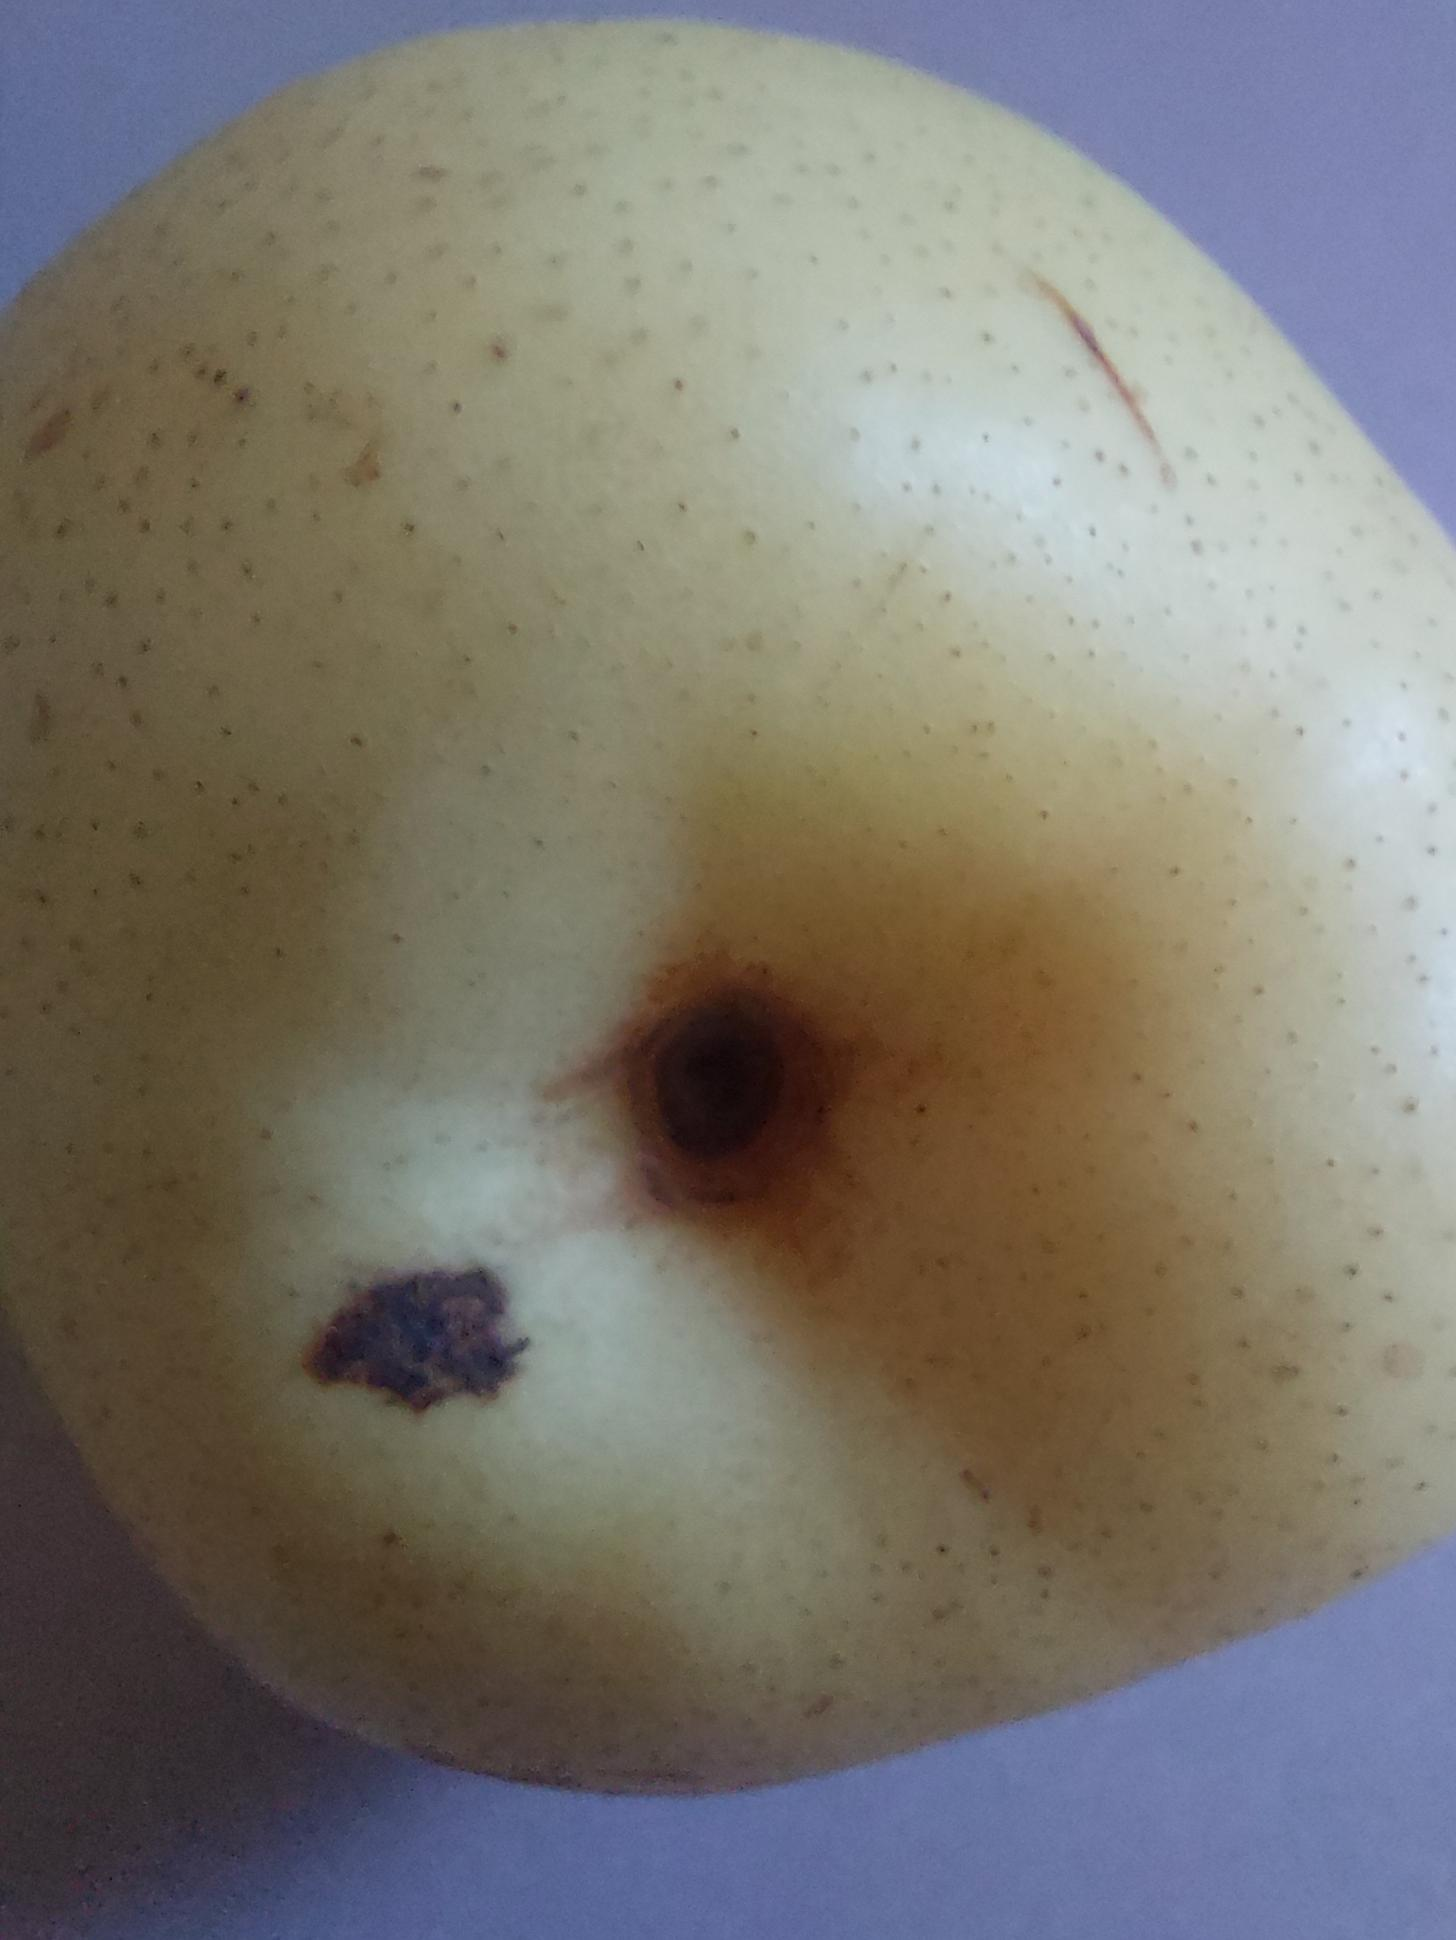Good Pear: (11, 11, 1456, 1835)
